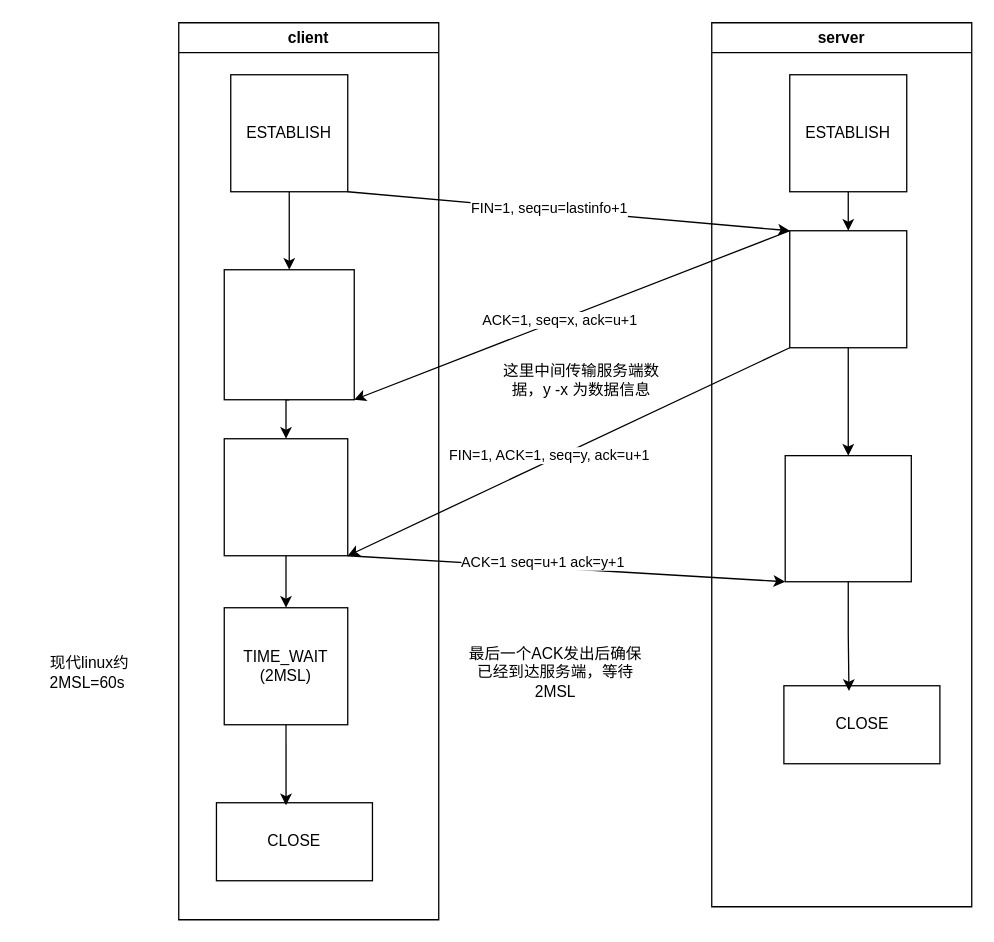
Image size: 994x942. Some labels were removed from this diagram. The centre of each missing label's shape, as x and y in pixels:
"CLOSE_WAIT" belongs at point (847, 288).
"FIN_1" belongs at point (288, 334).
"FIN_2" belongs at point (285, 496).
"LAST_ACK" belongs at point (847, 518).
